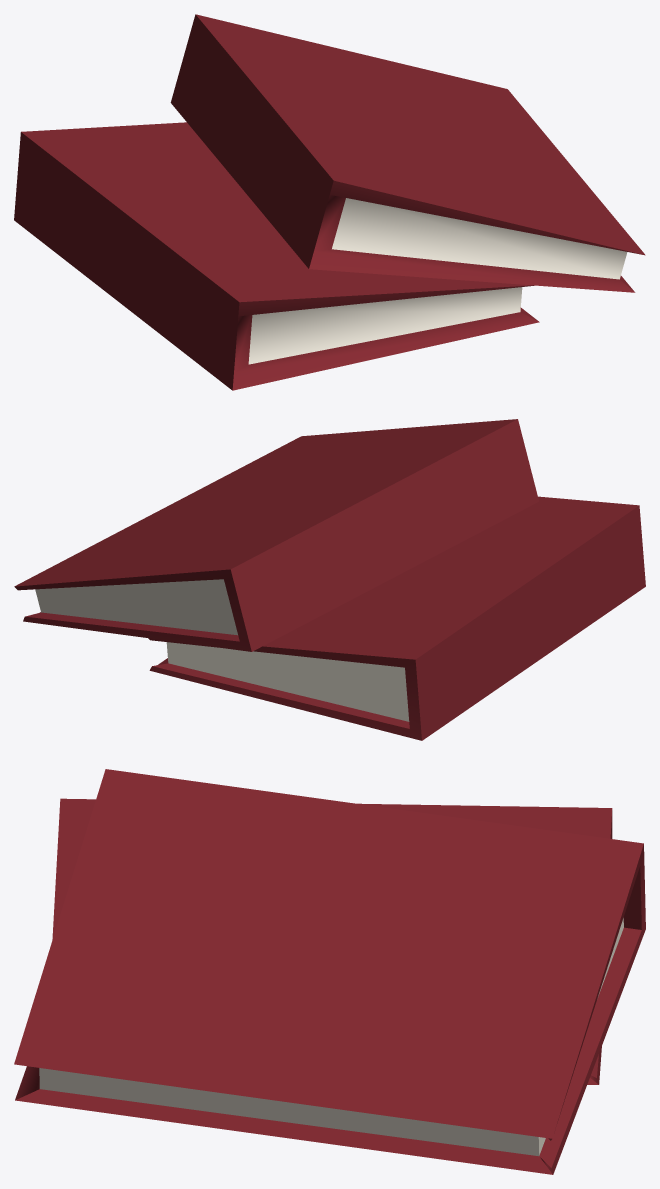
3 views of the same model, one above another, from view 1: azimuth 30°, elevation 25°; view 2: azimuth 150°, elevation 25°; view 3: azimuth 270°, elevation 25° (orthographic). The views are drawn at different scales.
Parts seen in each view (by area): view 1: fbx_file; view 2: fbx_file; view 3: fbx_file.
Part boxes in pixels (x1=…): fbx_file: x1=14, y1=14, x2=645, y2=390; fbx_file: x1=14, y1=419, x2=645, y2=740; fbx_file: x1=14, y1=769, x2=645, y2=1174.
Bounding box in the file's own units: 0.6056 × 0.2042 × 0.5767.
1 material, 1 textured.
